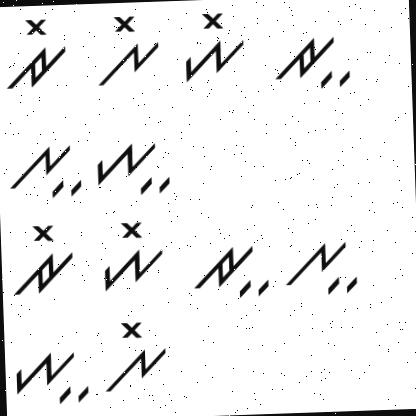lah: (282, 225, 362, 300), (6, 132, 87, 202)
lo: (90, 7, 166, 94), (99, 314, 170, 396)
rah: (188, 230, 282, 316), (270, 28, 356, 97)
ro: (7, 220, 78, 303), (1, 13, 72, 93)
yah: (5, 336, 92, 410), (94, 134, 174, 200)
yo: (174, 8, 248, 90), (92, 218, 168, 294)
